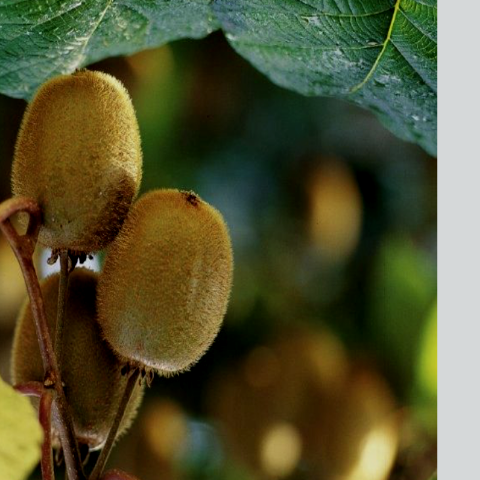kiwi: (0, 67, 164, 273), (12, 253, 157, 460), (92, 187, 244, 381)
